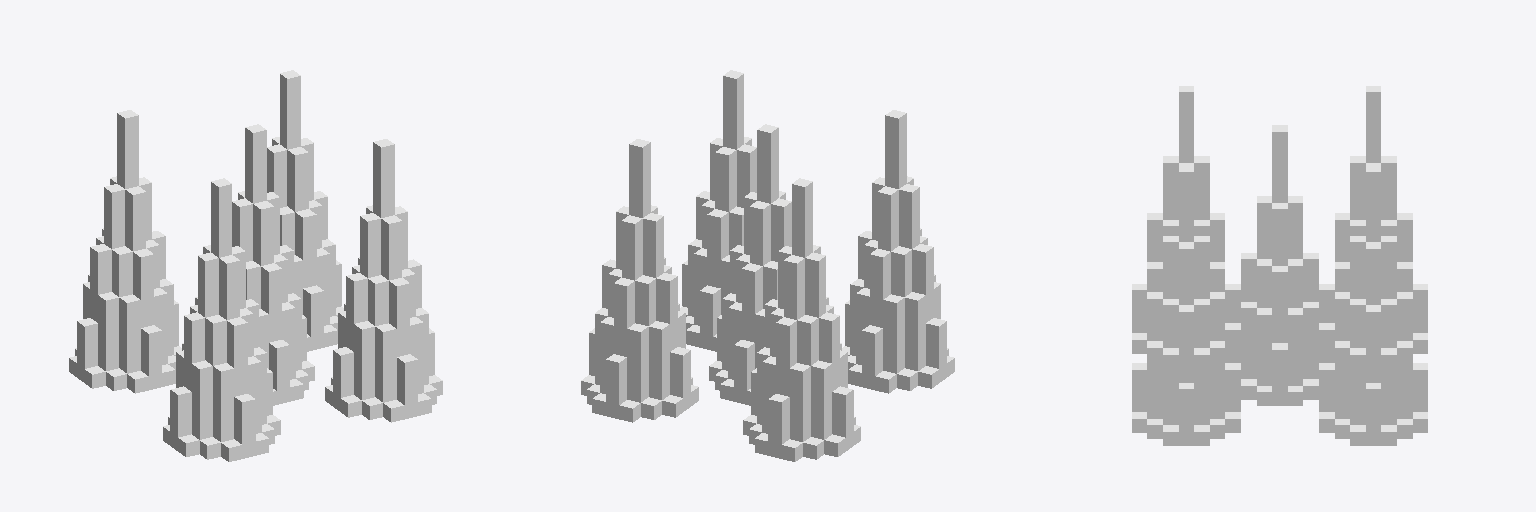
File: SpikeTrap.obj
3 views of the same model, side by side, from view 1: azimuth 30°, elevation 25°; view 2: azimuth 150°, elevation 25°; view 3: azimuth 270°, elevation 25° (orthographic).
Visible parts, largest first — view 1: object 1; view 2: object 1; view 3: object 1.
Part boxes in pixels (bbox=[...]): object 1: bbox=[69, 70, 442, 461]; object 1: bbox=[581, 70, 954, 461]; object 1: bbox=[1132, 86, 1427, 445].
Bounding box in the file's own units: 1.9 × 1.8 × 1.9.